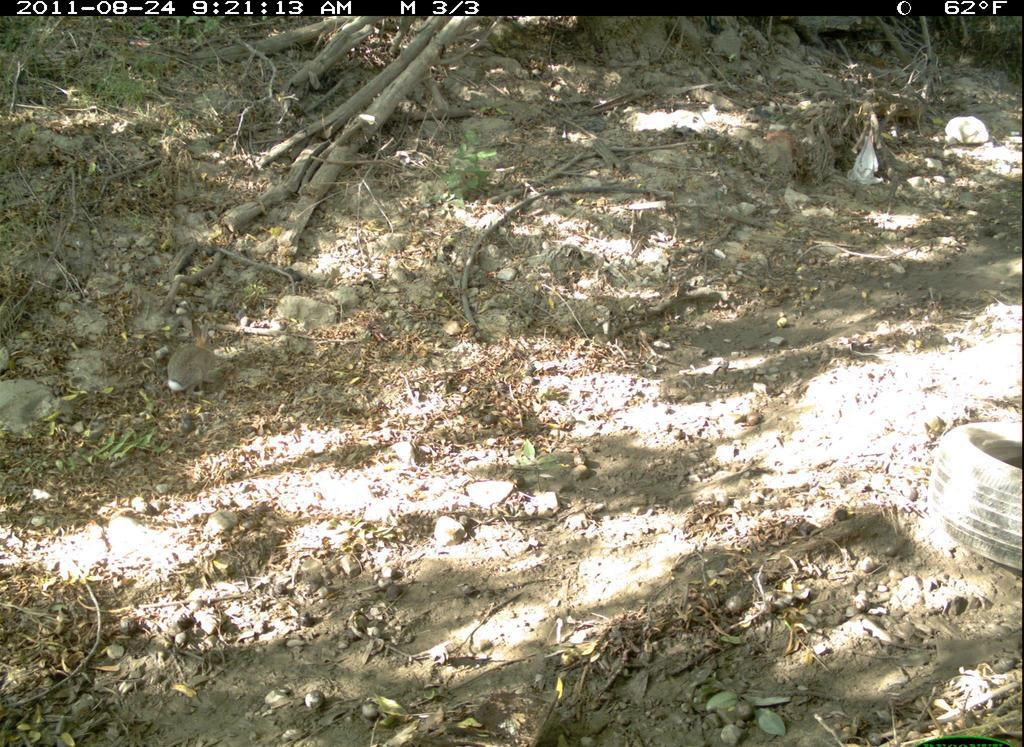rabbit: (161, 314, 222, 404)
